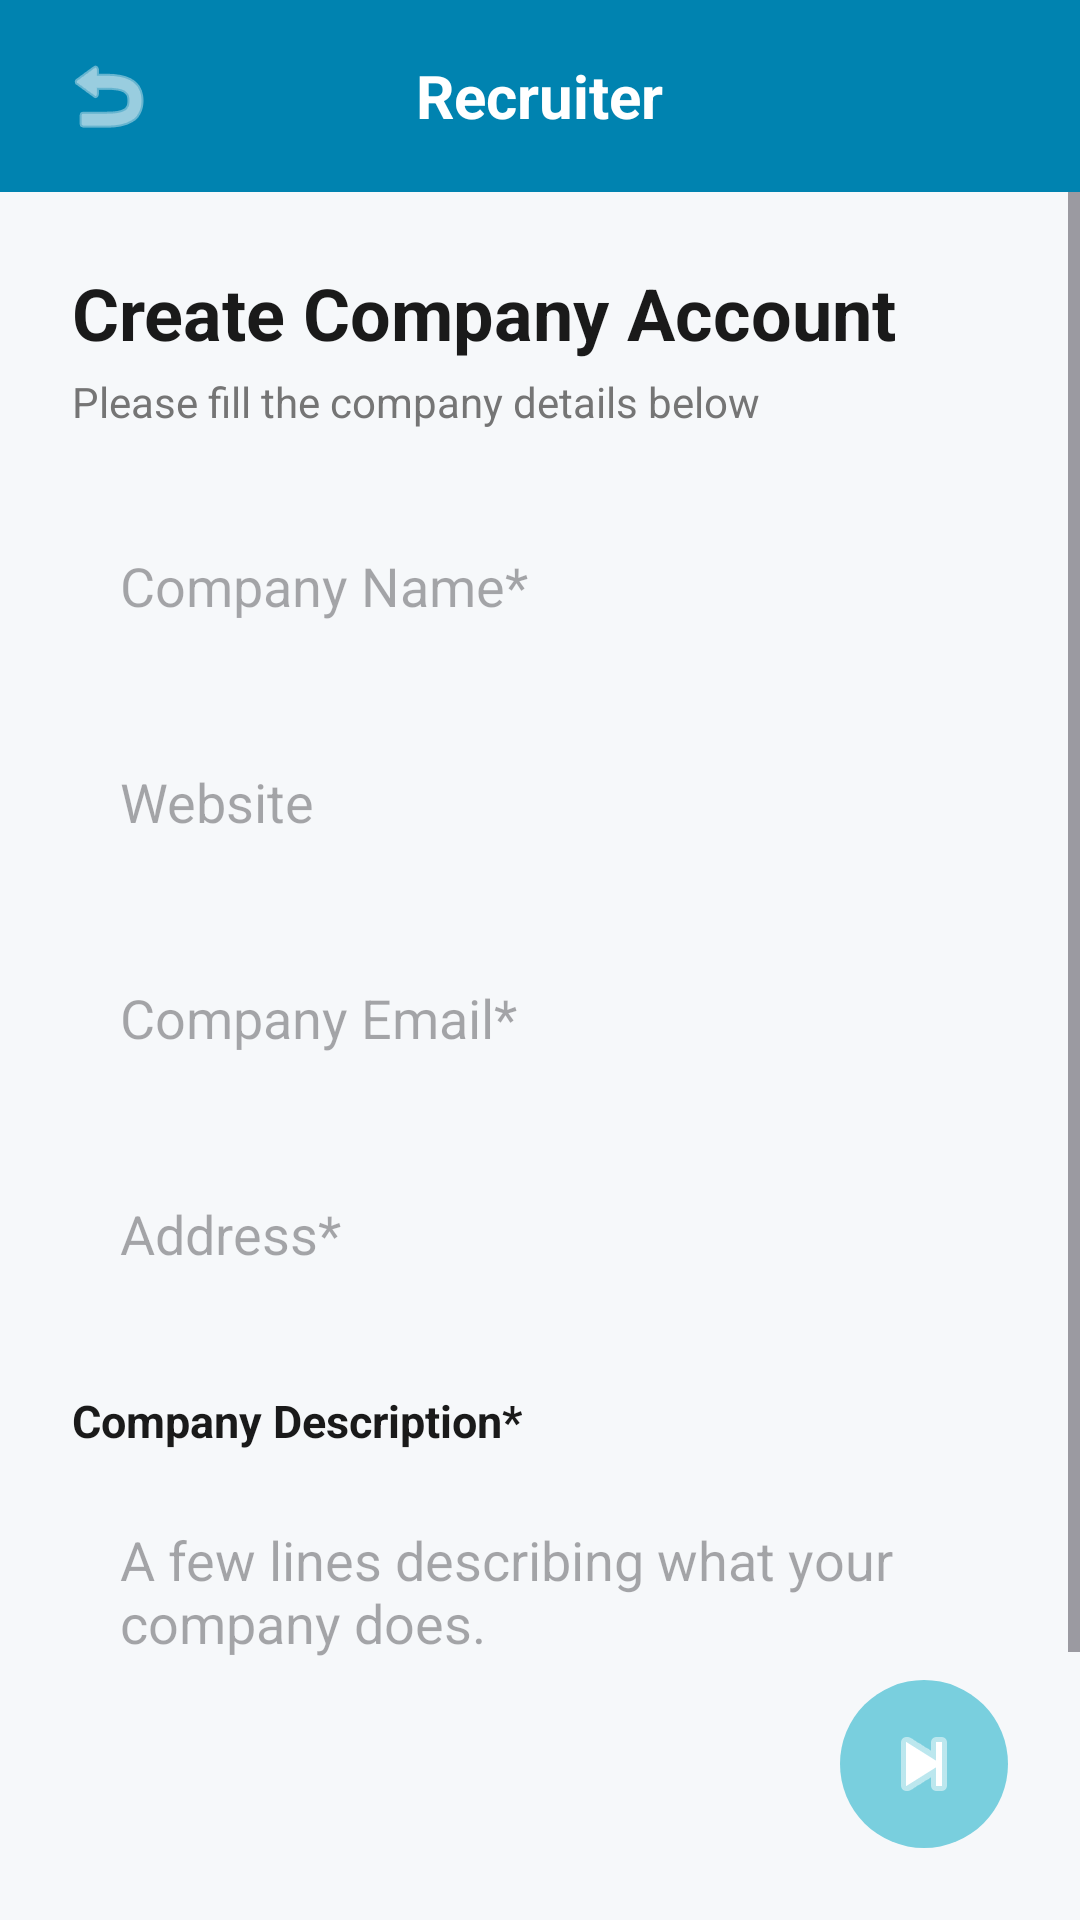

Icon bounding boxes for this 1080*1920 phone screenshot, format (x1, y1, x2, y2):
Back: (75, 65, 144, 128)
Next: (840, 1680, 1008, 1848)
